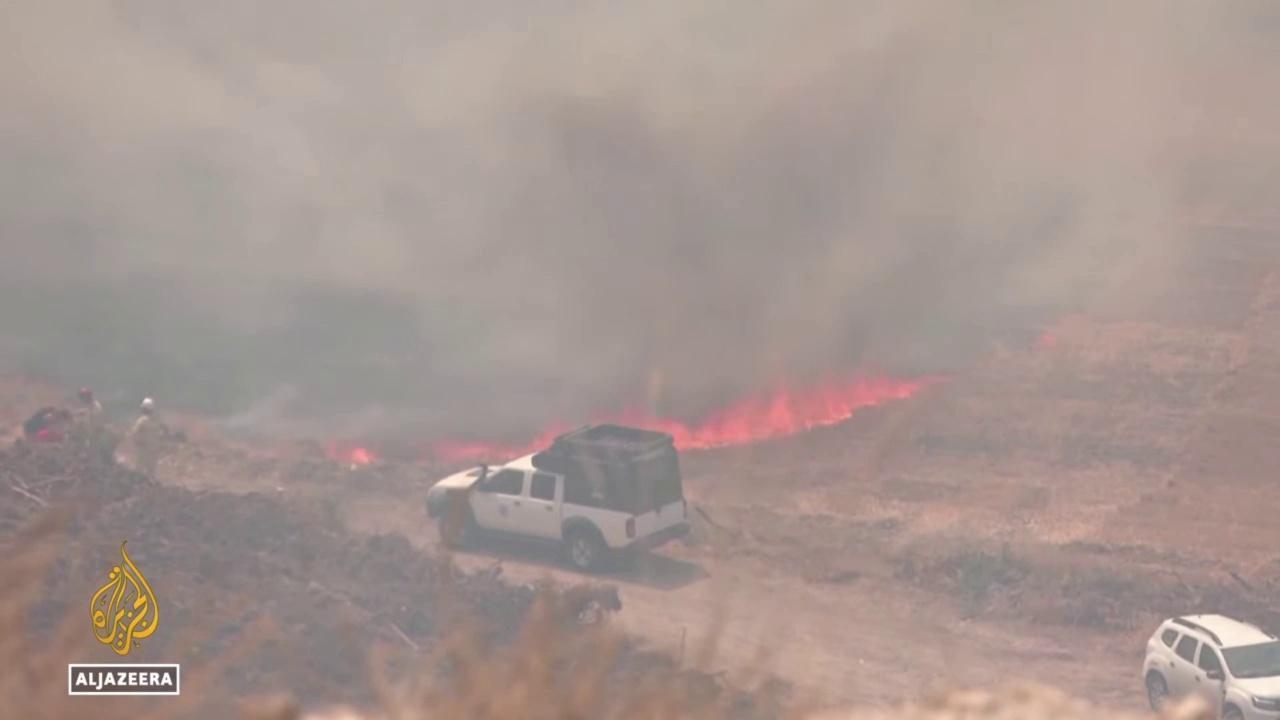fire: (440, 366, 955, 463), (322, 443, 372, 465), (1033, 332, 1056, 351)
smoke: (0, 0, 1280, 442)
